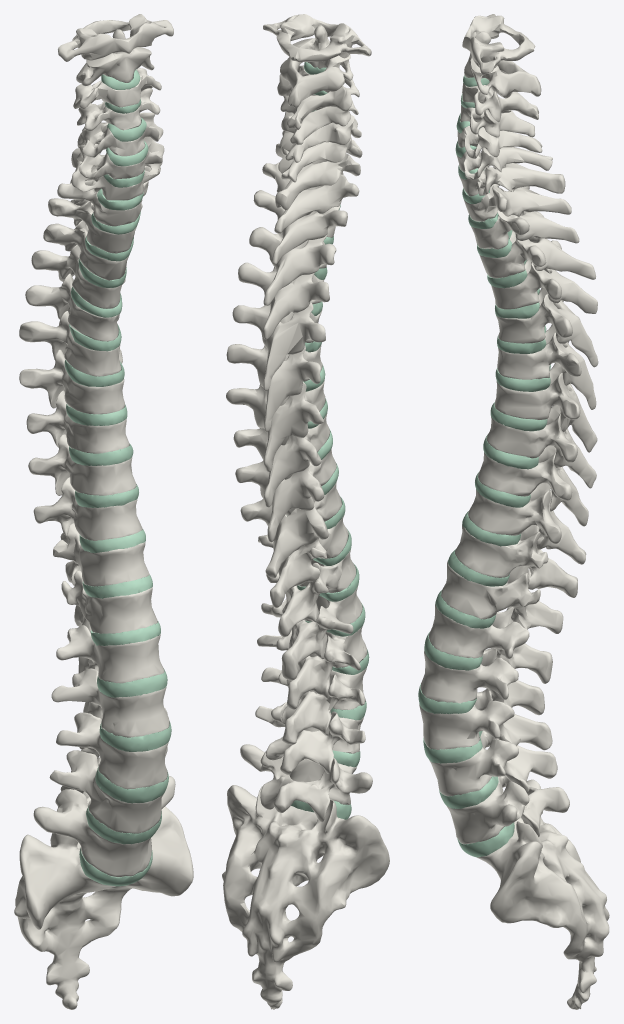
Rendered from spine.glb.
3 renders of one model, left to right at view 1: azimuth 30°, elevation 25°; view 2: azimuth 150°, elevation 25°; view 3: azimuth 270°, elevation 25°, orthographic. The views are drawn at different scales.
Visible parts, largest first — view 1: Sacrum, Fifth lumbar vertebra, Second lumbar vertebra, Third lumbar vertebra, Fourth lumbar vertebra, First lumbar vertebra, Tenth thoracic vertebra, Twelfth thoracic vertebra, Eleventh thoracic vertebra, Ninth thoracic vertebra, Atlas, Seventh thoracic vertebra (+33 smaller); view 2: Sacrum, Fifth lumbar vertebra, Fourth lumbar vertebra, Seventh thoracic vertebra, Third lumbar vertebra, First lumbar vertebra, Tenth thoracic vertebra, Second lumbar vertebra, Ninth thoracic vertebra, Fifth thoracic vertebra, Sixth thoracic vertebra, Eighth thoracic vertebra (+14 smaller); view 3: Sacrum, Third lumbar vertebra, First lumbar vertebra, Second lumbar vertebra, Fifth lumbar vertebra, Twelfth thoracic vertebra, Fourth lumbar vertebra, Eleventh thoracic vertebra, Tenth thoracic vertebra, Ninth thoracic vertebra, Seventh thoracic vertebra, Eighth thoracic vertebra (+27 smaller).
Part boxes in pixels (bbox=[...]): Sacrum: bbox=[14, 806, 193, 1009]; Fifth lumbar vertebra: bbox=[33, 776, 175, 877]; Second lumbar vertebra: bbox=[51, 668, 169, 737]; Third lumbar vertebra: bbox=[56, 707, 168, 788]; Fourth lumbar vertebra: bbox=[49, 747, 167, 833]; First lumbar vertebra: bbox=[56, 625, 164, 683]; Tenth thoracic vertebra: bbox=[33, 477, 142, 544]; Twelfth thoracic vertebra: bbox=[61, 570, 157, 633]; Eleventh thoracic vertebra: bbox=[53, 523, 149, 586]; Ninth thoracic vertebra: bbox=[28, 434, 136, 495]; Atlas: bbox=[58, 14, 173, 61]; Seventh thoracic vertebra: bbox=[19, 349, 124, 414]; Sacrum: bbox=[222, 785, 389, 1009]; Fifth lumbar vertebra: bbox=[240, 744, 372, 822]; Fourth lumbar vertebra: bbox=[255, 702, 365, 774]; Seventh thoracic vertebra: bbox=[226, 380, 325, 471]; Third lumbar vertebra: bbox=[261, 667, 366, 744]; First lumbar vertebra: bbox=[261, 584, 362, 680]; Tenth thoracic vertebra: bbox=[240, 481, 341, 577]; Second lumbar vertebra: bbox=[257, 625, 367, 709]; Ninth thoracic vertebra: bbox=[235, 448, 336, 542]; Fifth thoracic vertebra: bbox=[232, 302, 325, 391]; Sixth thoracic vertebra: bbox=[226, 344, 322, 431]; Eighth thoracic vertebra: bbox=[233, 413, 329, 507]; Sacrum: bbox=[477, 779, 609, 1009]; Third lumbar vertebra: bbox=[419, 688, 552, 750]; First lumbar vertebra: bbox=[428, 604, 552, 683]; Second lumbar vertebra: bbox=[420, 648, 544, 715]; Fifth lumbar vertebra: bbox=[447, 775, 569, 844]; Twelfth thoracic vertebra: bbox=[441, 561, 563, 633]; Fourth lumbar vertebra: bbox=[429, 730, 557, 796]; Eleventh thoracic vertebra: bbox=[455, 524, 577, 597]; Tenth thoracic vertebra: bbox=[468, 483, 586, 564]; Ninth thoracic vertebra: bbox=[478, 445, 588, 526]; Seventh thoracic vertebra: bbox=[494, 363, 597, 452]; Eighth thoracic vertebra: bbox=[486, 405, 596, 488].
Size of the model in its own units: 0.4215 by 2.5 by 0.441.
